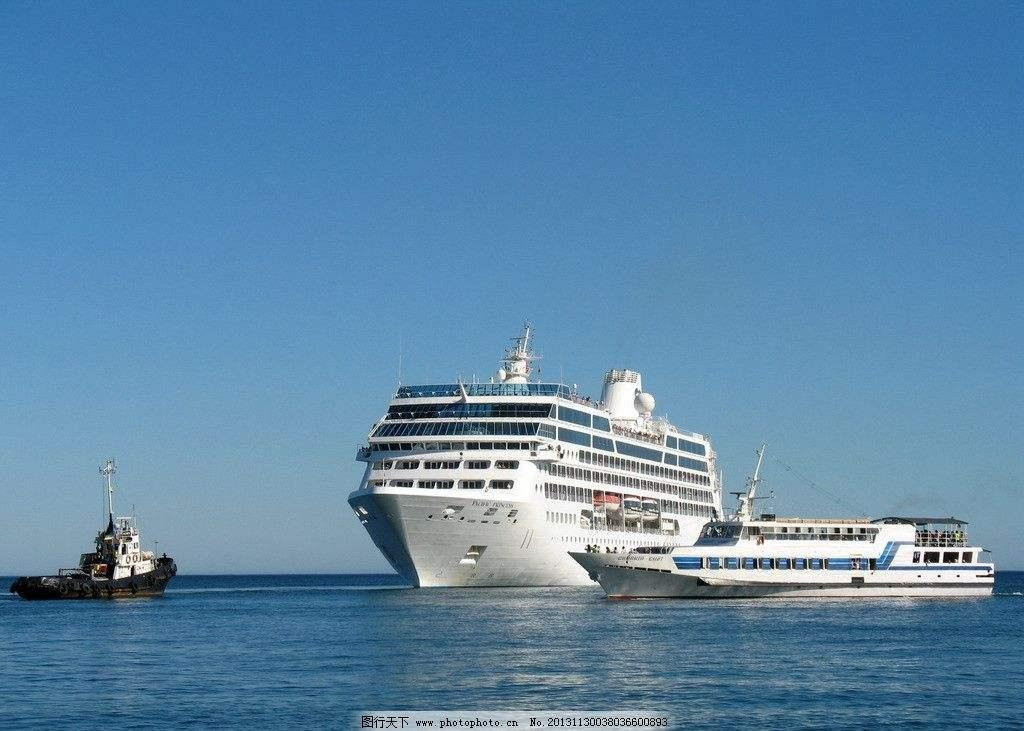otherboat: (23, 506, 174, 610)
youlun: (345, 331, 725, 588), (562, 504, 992, 599)
